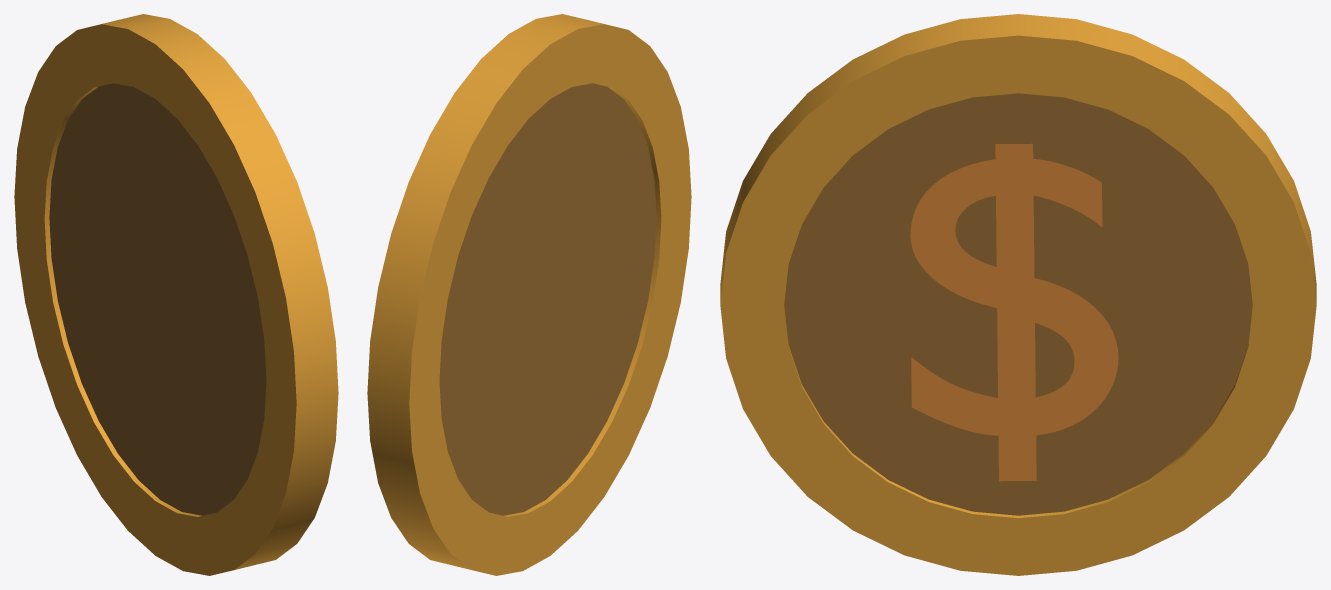
The model's file is Coin.fbx.
3 renders of one model, left to right at view 1: azimuth 30°, elevation 25°; view 2: azimuth 150°, elevation 25°; view 3: azimuth 270°, elevation 25°, orthographic. The views are drawn at different scales.
Parts seen in each view (by area): view 1: Coin; view 2: Coin; view 3: Coin.
Part boxes in pixels (x1,y1,x2,y2): Coin: [14, 14, 338, 575]; Coin: [367, 14, 691, 575]; Coin: [720, 14, 1316, 575].
Size of the model in its own units: 0.0857 by 1 by 1.
